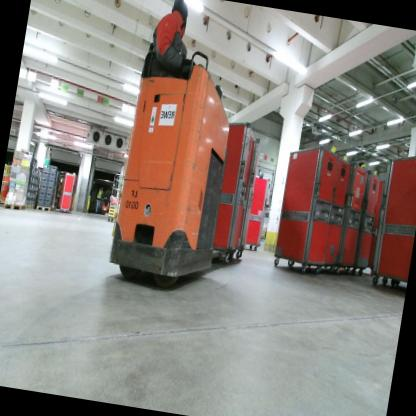pallet: (3, 196, 26, 212), (34, 203, 54, 213), (24, 201, 30, 212), (29, 202, 35, 210)
pallet_truck: (105, 36, 292, 303), (94, 190, 113, 214)
